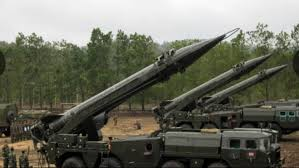ten_lua: (39, 31, 232, 142), (174, 44, 268, 114)
